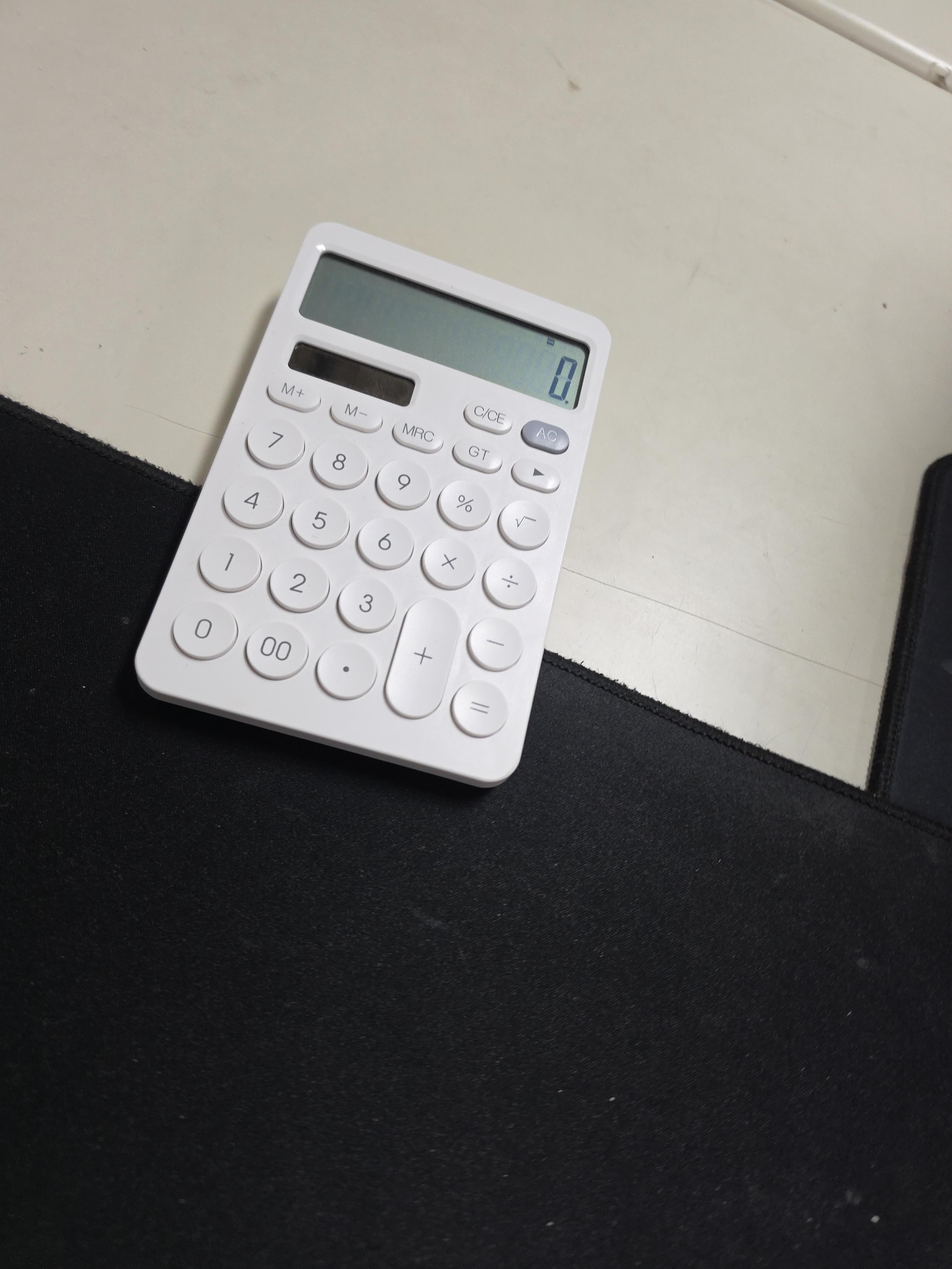calculator: (134, 220, 612, 789)
